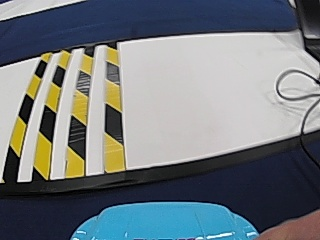bump: (6, 57, 127, 173)
